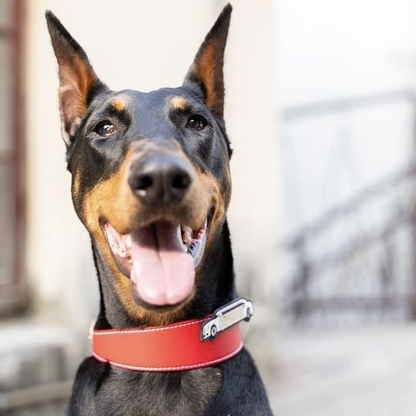doberman: (44, 4, 289, 416)
